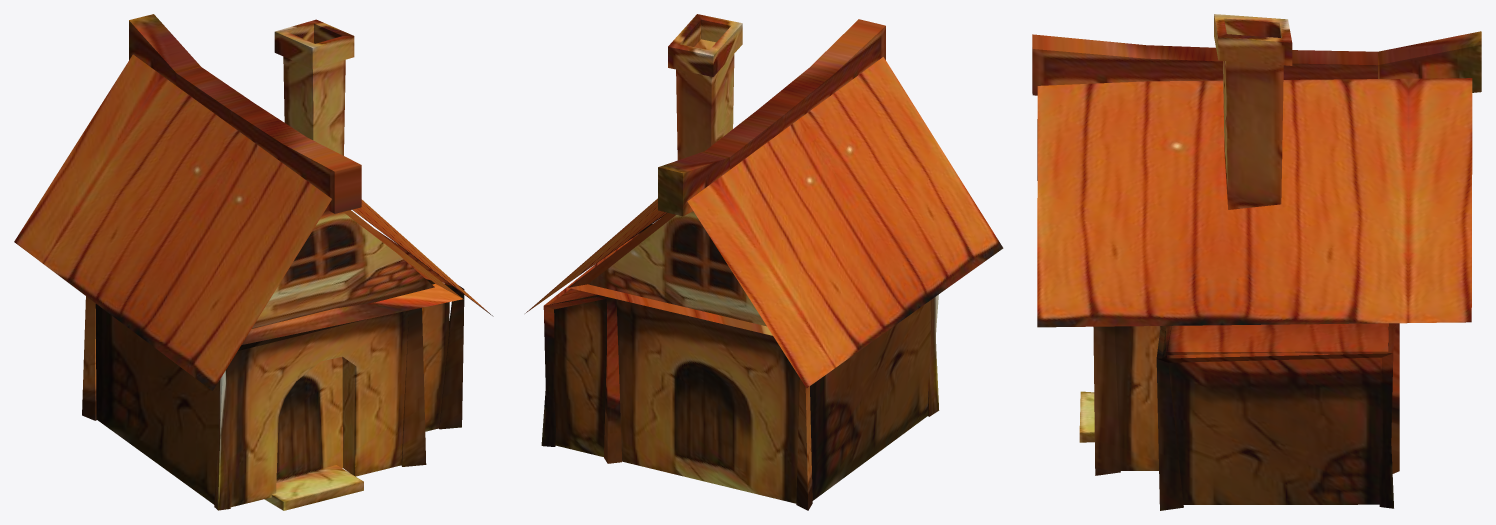
3 renders of one model, left to right at view 1: azimuth 30°, elevation 25°; view 2: azimuth 150°, elevation 25°; view 3: azimuth 270°, elevation 25°, orthographic. The views are drawn at different scales.
Parts seen in each view (by area): view 1: h7.001; view 2: h7.001; view 3: h7.001.
Boxes of the visible parts, x1,y1,x2,y2 form: h7.001: (14,14,493,510); h7.001: (525,14,1003,510); h7.001: (1032,14,1481,510).
Bounding box in the file's own units: 1.6 × 1.99 × 1.85.
1 material, 1 textured.
